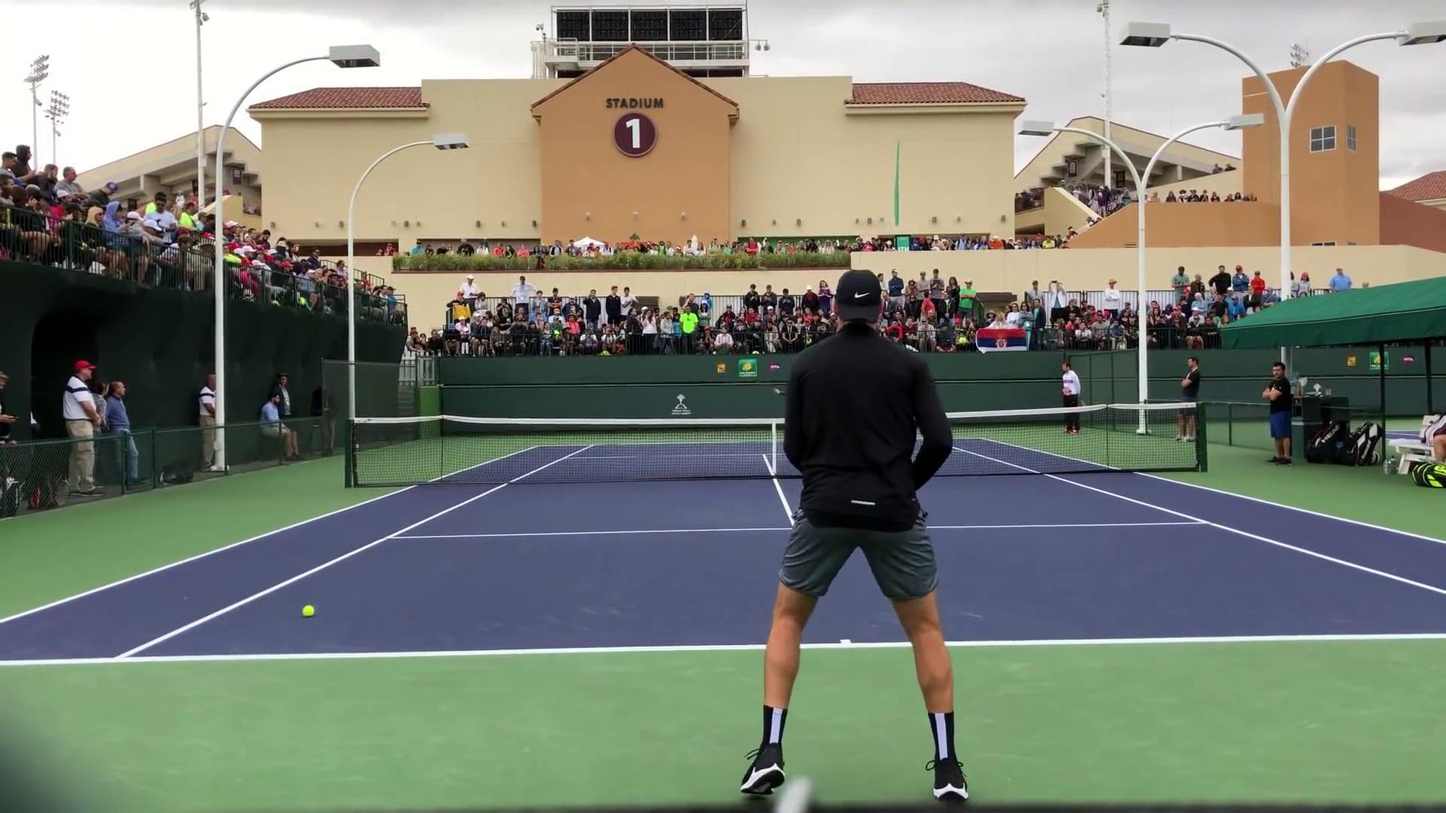ball: (300, 605, 316, 616)
